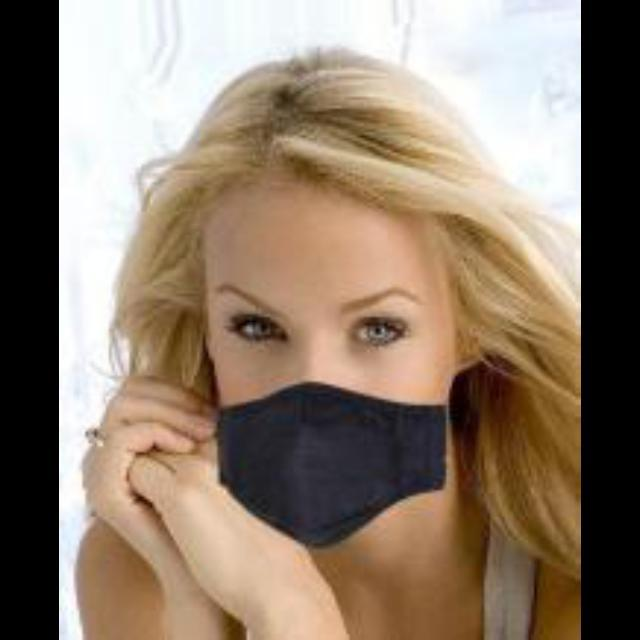suspicion: (192, 76, 473, 542)
